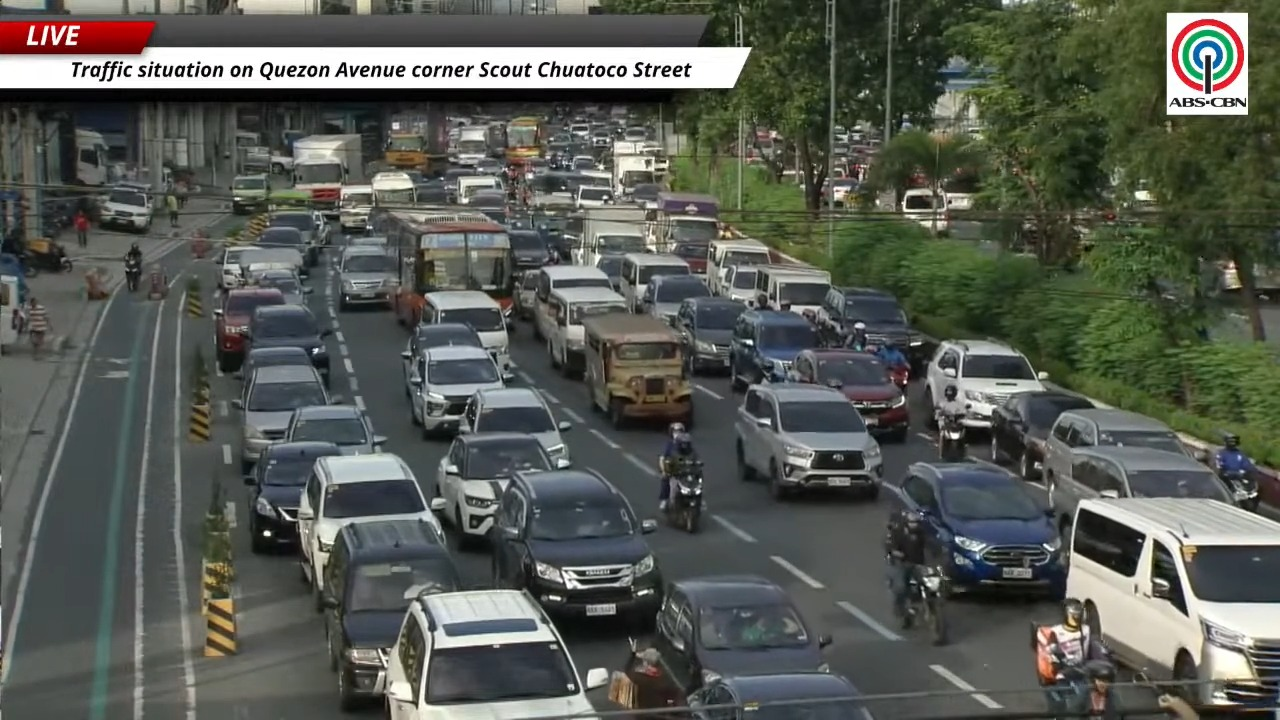bus: (369, 207, 513, 327), (506, 116, 543, 163), (370, 171, 415, 205)
car: (1067, 498, 1279, 715), (386, 589, 608, 719), (490, 469, 662, 625), (322, 519, 462, 710), (893, 462, 1066, 596), (298, 453, 444, 611), (653, 575, 831, 692), (1046, 446, 1235, 538), (734, 383, 883, 499), (436, 433, 568, 542), (688, 652, 873, 719), (924, 339, 1048, 430), (790, 349, 909, 442), (1044, 407, 1193, 481), (244, 442, 340, 553), (232, 367, 331, 473), (990, 390, 1094, 480), (817, 287, 927, 371), (406, 345, 504, 438), (420, 290, 513, 380), (458, 387, 571, 459), (245, 304, 332, 386), (729, 309, 817, 390), (213, 287, 284, 372), (400, 323, 483, 393), (673, 297, 746, 374), (284, 405, 386, 454), (337, 246, 398, 310), (268, 210, 328, 265), (641, 275, 709, 322), (255, 226, 313, 276), (99, 187, 152, 232), (237, 347, 312, 378), (216, 245, 259, 290), (254, 270, 310, 304), (508, 230, 553, 271), (230, 174, 270, 214), (670, 241, 708, 282), (721, 264, 757, 306), (513, 268, 537, 320), (594, 254, 622, 292), (574, 185, 614, 209), (632, 183, 663, 203), (347, 235, 388, 248), (475, 158, 503, 174), (568, 155, 595, 170), (622, 126, 648, 141)
motorcycle: (1045, 658, 1115, 717), (900, 565, 947, 645), (664, 461, 703, 533), (1217, 469, 1259, 511), (23, 238, 72, 271), (939, 414, 965, 461), (761, 360, 789, 383), (124, 258, 141, 292), (889, 365, 910, 390)
truck: (292, 135, 367, 216), (380, 103, 448, 176), (570, 207, 644, 265), (235, 129, 292, 174), (74, 128, 110, 186), (612, 154, 656, 200), (383, 131, 428, 172), (456, 125, 490, 167)
